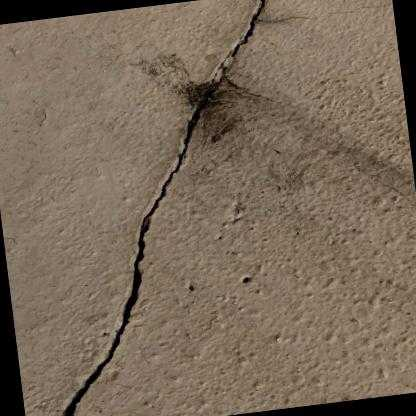crack: (62, 0, 262, 416)
